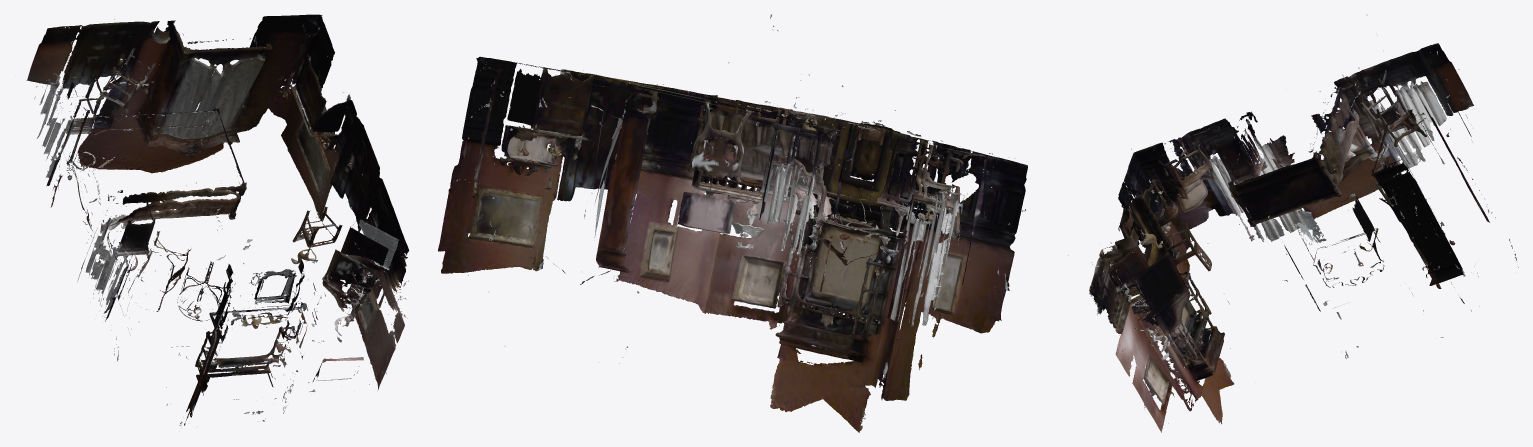
File: PRIOR-room-preview.glb
The picture shows the model from 3 angles, left to right: view 1: azimuth 30°, elevation 25°; view 2: azimuth 150°, elevation 25°; view 3: azimuth 270°, elevation 25°; orthographic projection. The views are drawn at different scales.
Parts seen in each view (by area): view 1: world; view 2: world; view 3: world.
Boxes of the visible parts, <box> form: world: <box>26,14,409,425</box>; world: <box>438,14,1027,432</box>; world: <box>1068,15,1518,432</box>.
Bounding box in the file's own units: 5.87 × 6.01 × 7.28.
